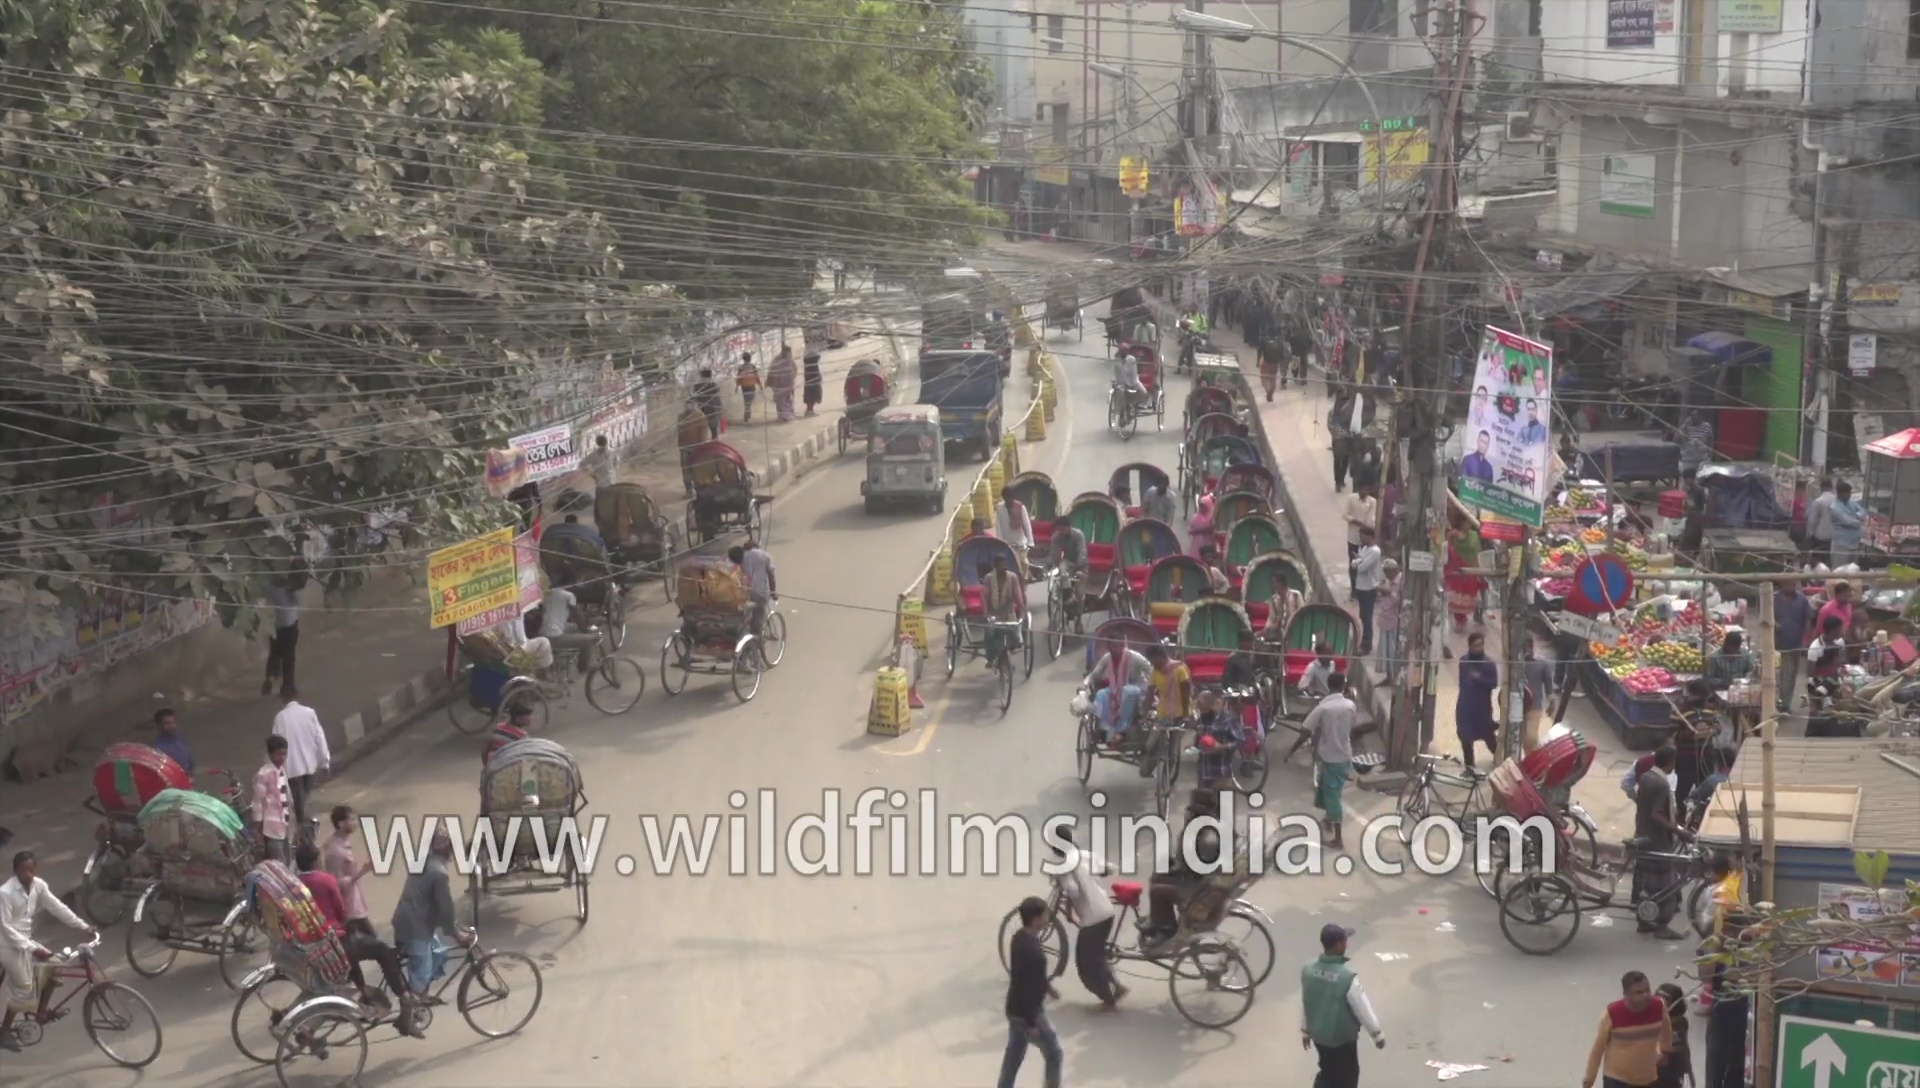5: (223, 855, 545, 1085), (996, 814, 1276, 1034), (1, 851, 165, 1085), (465, 711, 611, 930)
bus: (857, 402, 952, 504)
